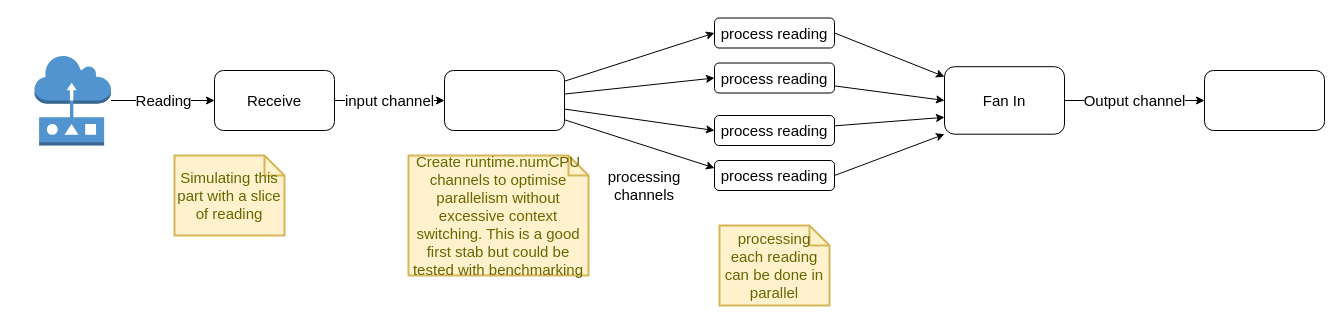
Image size: 1342x323. Some labels were removed from this diagram. The box of each missing label's shape, as (x1, y1, x2, y2) in pixels:
Fan Out: (444, 70, 564, 130)
many rainfall sensor(s): (34, 54, 111, 146)
output readings: (1204, 70, 1324, 130)
